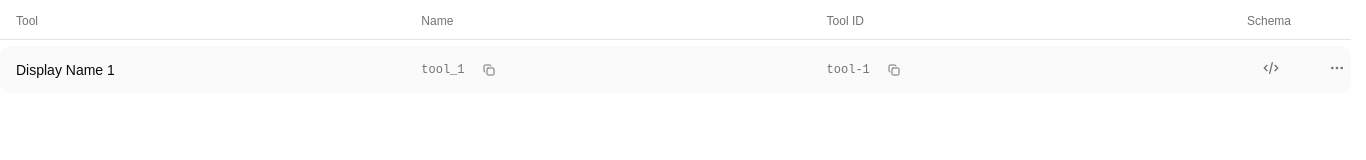
ToolsTable › toggle dropdown (onToggleTool provided) › shows 'Activate' when the tool is disabled
The width and height of the screenshot is (1366, 160).
What coordinates should you click on to do the following:
click the button named "More options"
I would click on:
 (1337, 68)
Its box is [1327,58,1347,78].
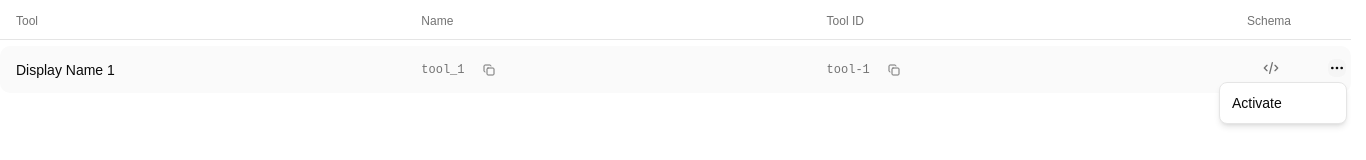
Result: the menu item "Activate" is shown at [1232,95,1282,111]
